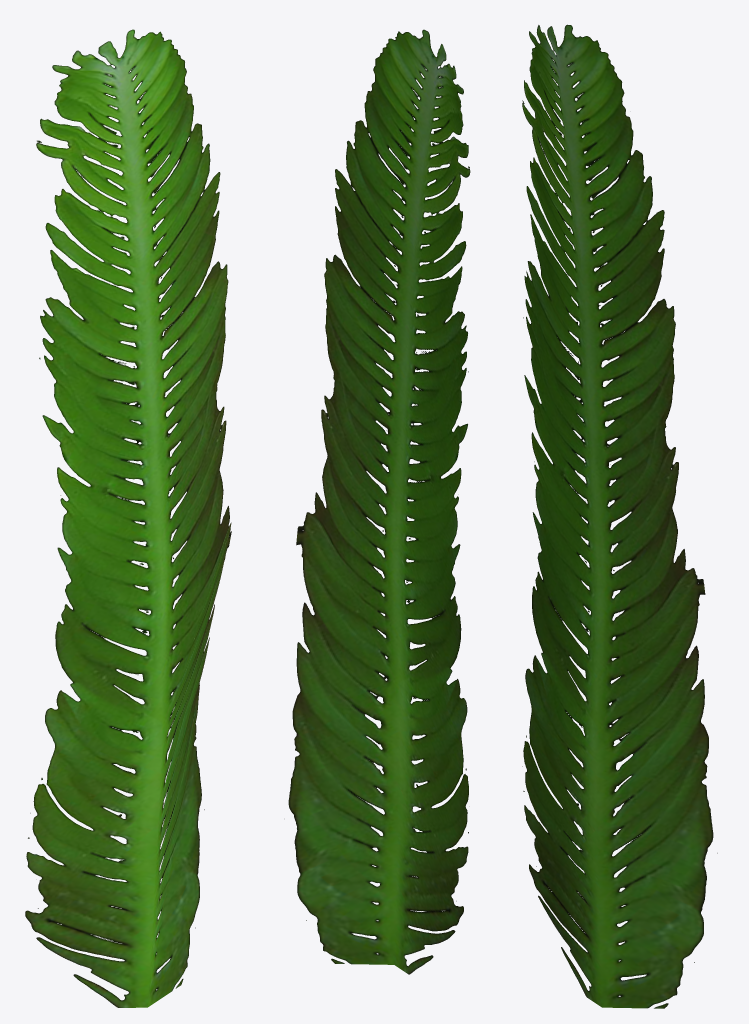
3 views of the same model, side by side, from view 1: azimuth 30°, elevation 25°; view 2: azimuth 150°, elevation 25°; view 3: azimuth 330°, elevation 25° (orthographic). The views are drawn at different scales.
Visible parts, largest first — view 1: Caulerpa_Taxifolia; view 2: Caulerpa_Taxifolia; view 3: Caulerpa_Taxifolia.
Boxes of the visible parts, box(x1,y1,x2,y2) form: Caulerpa_Taxifolia: box(25, 29, 231, 1007); Caulerpa_Taxifolia: box(288, 29, 470, 974); Caulerpa_Taxifolia: box(522, 24, 717, 1008).
Size of the model in its own units: 0.0318 by 0.1424 by 0.0109.
1 material, 1 textured.
